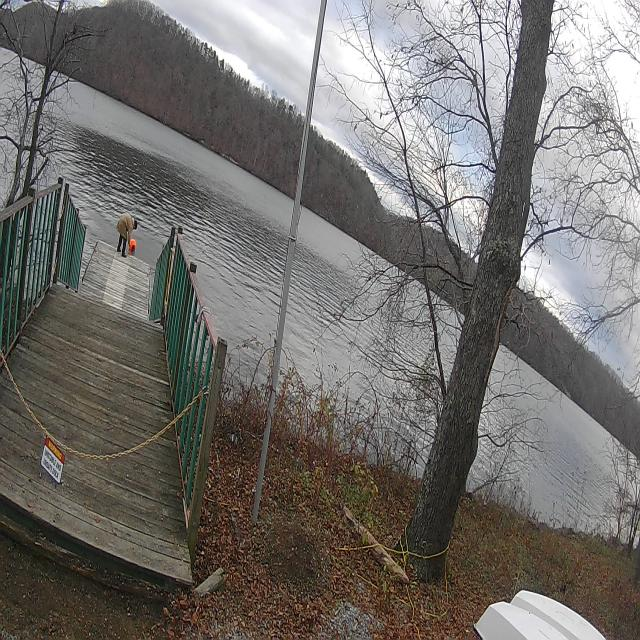Buoy: (128, 238, 136, 256)
